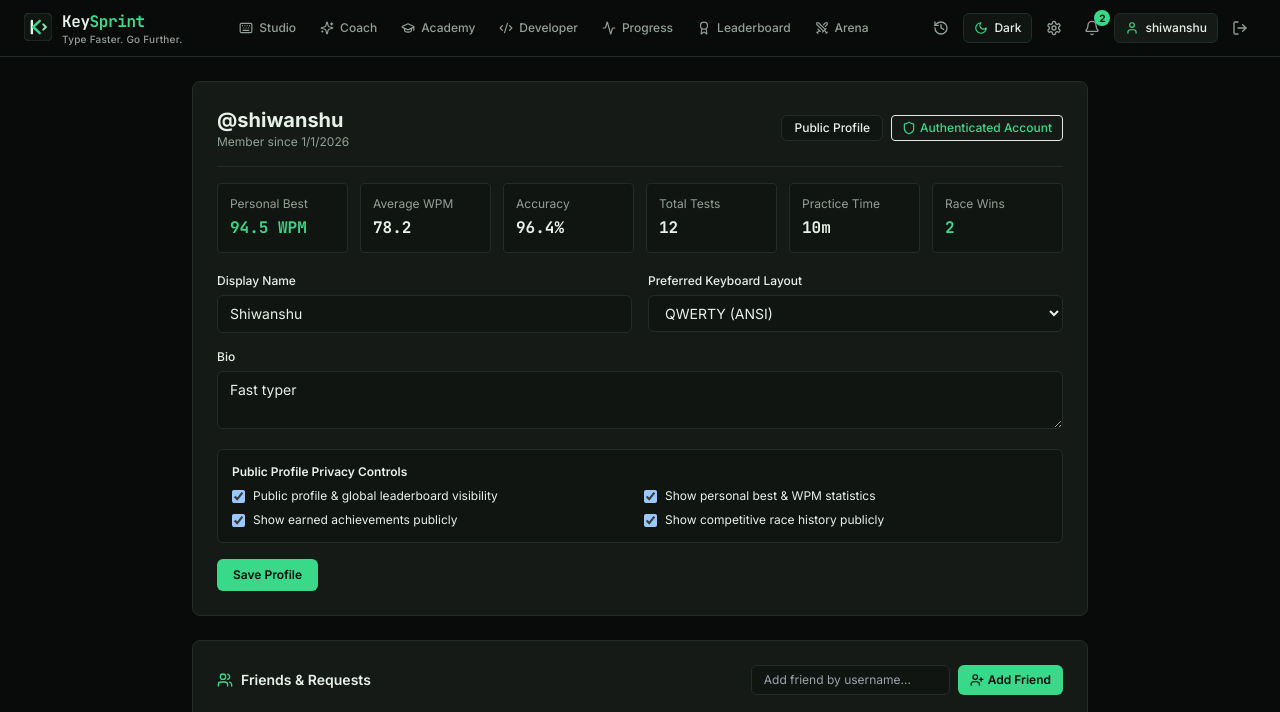
Test: Phase 5: Social Ecosystem, Leaderboards, Challenges, Profiles & Sync › renders authenticated Profile with privacy controls, friends manager, achievements, and unread notifications
The image size is (1280, 712).
Expected: the text "94.5 WPM" is shown, x1=230 y1=217 x2=307 y2=238
Expected: the text "Public Profile Privacy Controls" is shown, x1=232 y1=464 x2=407 y2=479
Click the button named "Notifications". click: coordinates (1092, 28)
box: x1=1076 y1=12 x2=1108 y2=44
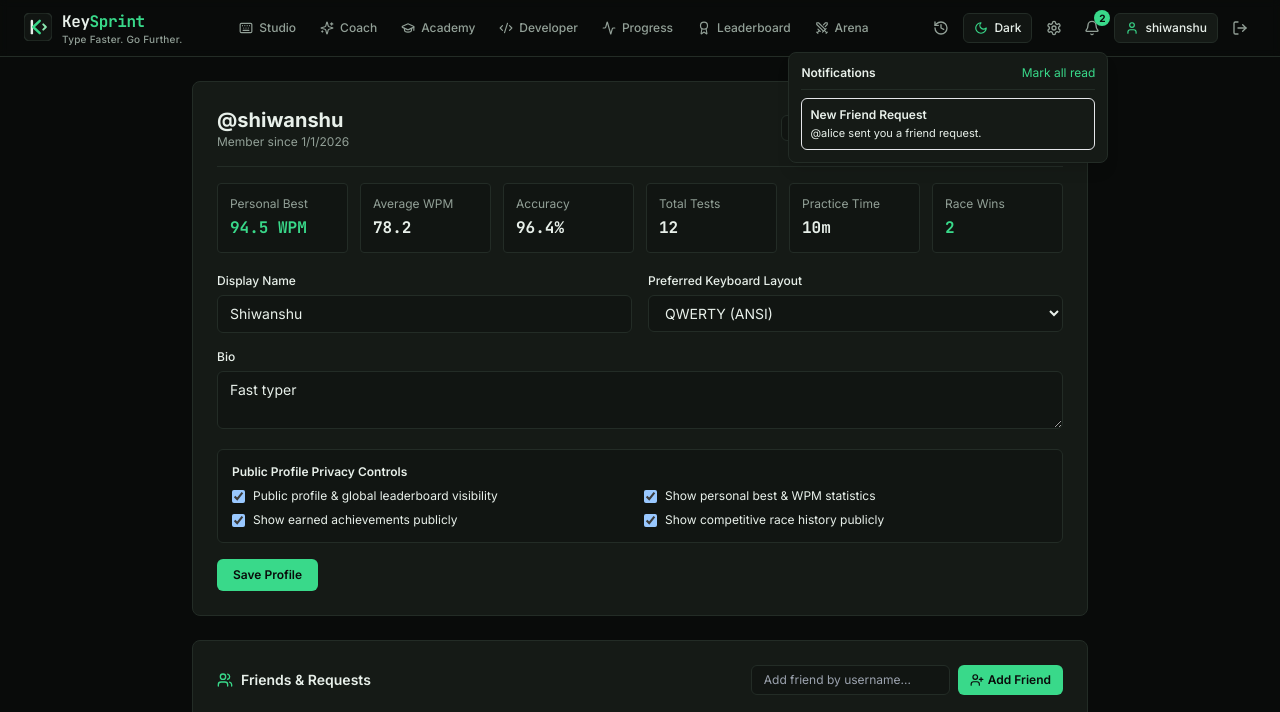
Result: the text "@alice sent you a friend request." is shown at x1=810 y1=126 x2=982 y2=140
